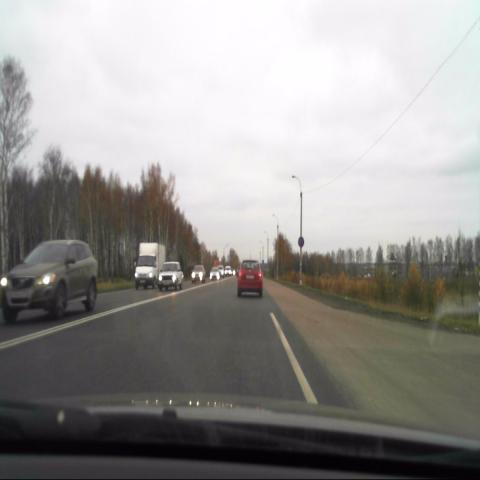3_27: (298, 235, 304, 246)
